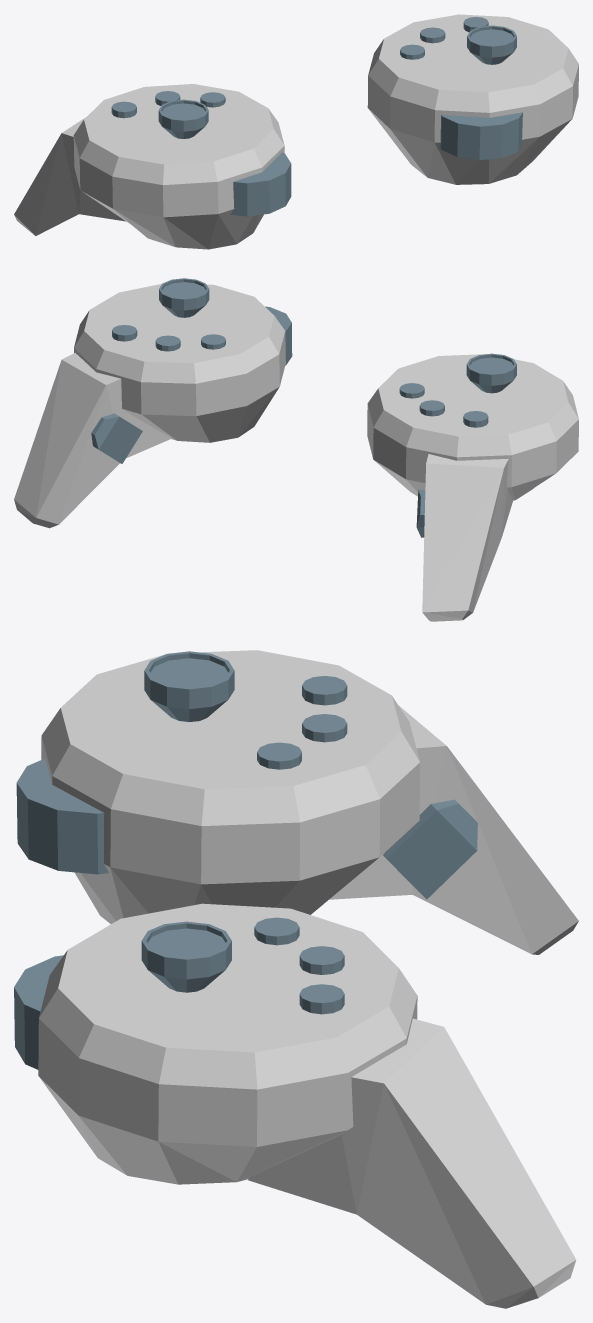
The model's file is handcontrol.glb.
The picture shows the model from 3 angles, top to bottom: view 1: azimuth 30°, elevation 25°; view 2: azimuth 150°, elevation 25°; view 3: azimuth 270°, elevation 25°; orthographic projection. The views are drawn at different scales.
Visible parts, largest first — view 1: group574367085, group1504908921; view 2: group1504908921, group574367085; view 3: group1504908921, group574367085.
Part boxes in pixels (x1,y1,x2,y2): group574367085: [14, 84, 291, 249]; group1504908921: [367, 14, 578, 184]; group1504908921: [14, 278, 292, 528]; group574367085: [367, 353, 578, 621]; group1504908921: [14, 903, 576, 1308]; group574367085: [16, 650, 578, 954].
Bounding box in the file's own units: 0.4381 × 0.1556 × 0.2507.
